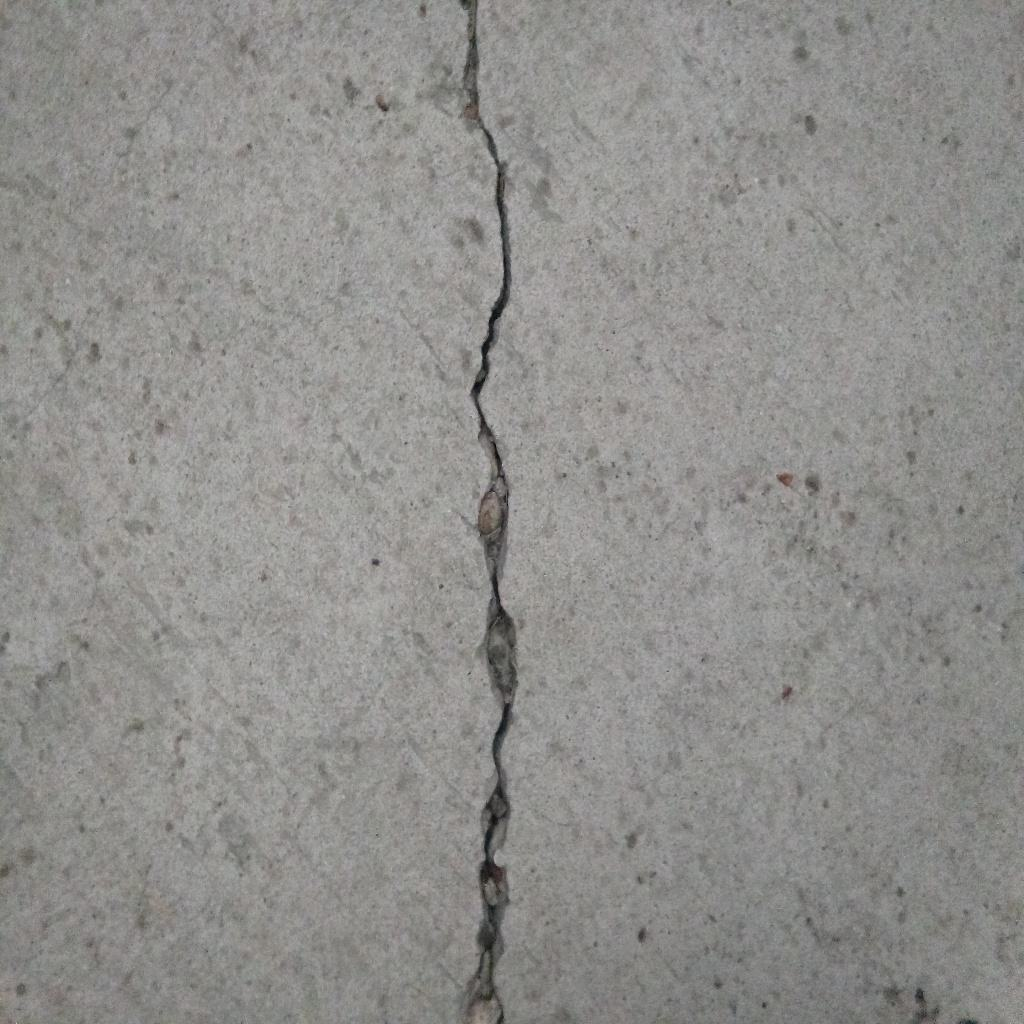Crack: (461, 1, 516, 1024)
